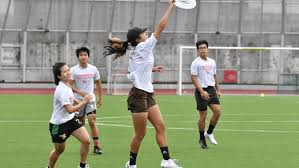disc: (173, 0, 198, 9)
